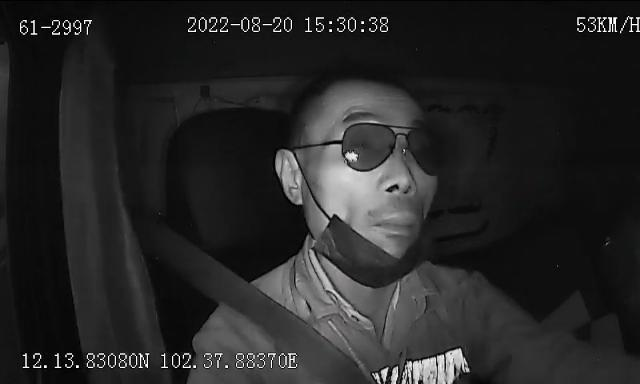SafeDriving: (342, 135, 378, 165)
Seatbelt: (178, 236, 372, 384)
